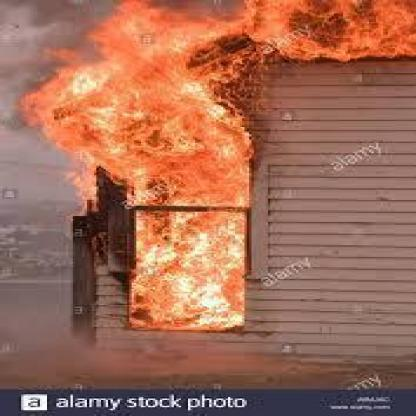fire: (8, 0, 410, 333)
